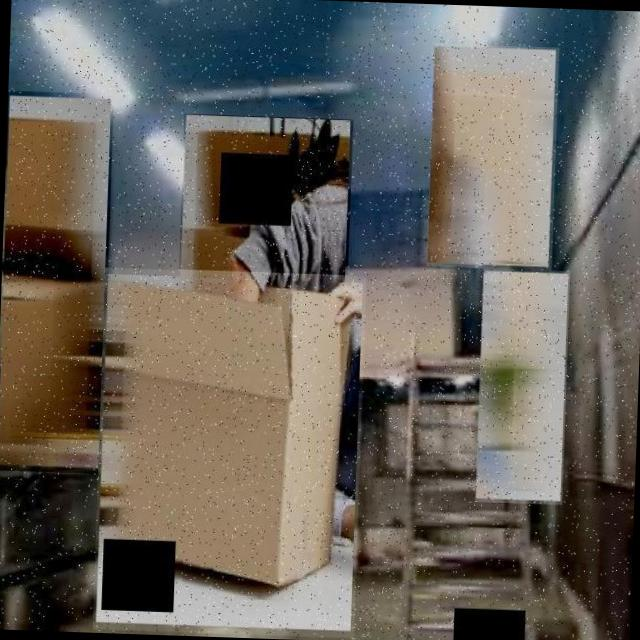box: (93, 267, 366, 638), (0, 90, 113, 473), (178, 114, 353, 290), (426, 43, 560, 270), (475, 268, 570, 504)
